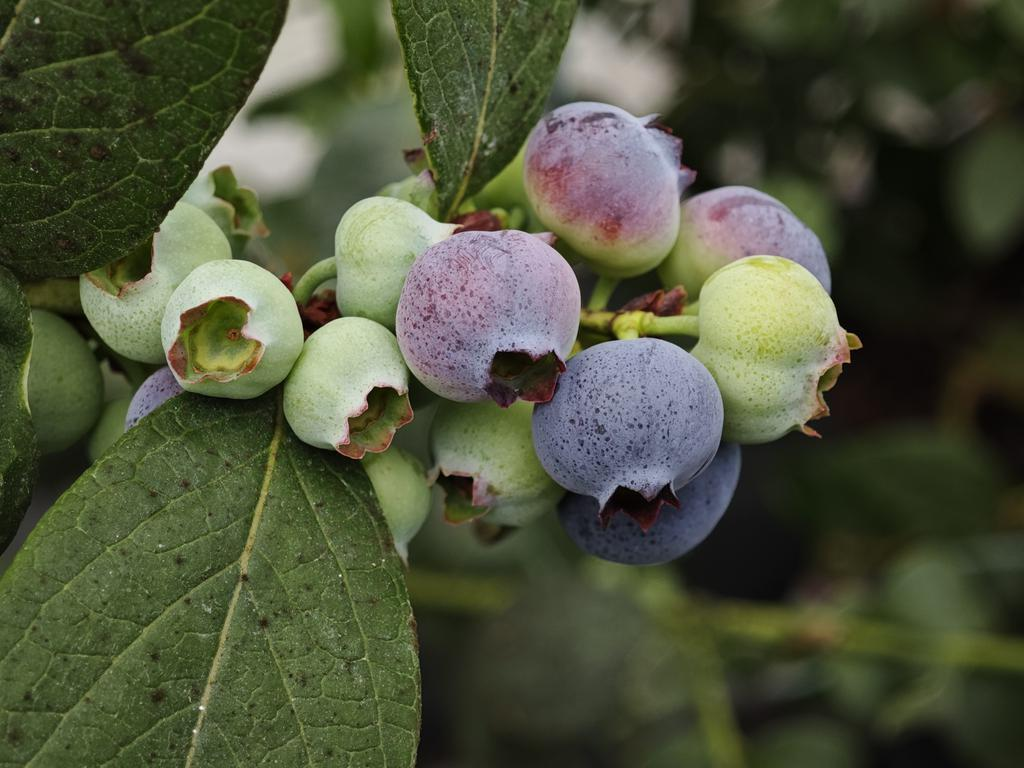RipeBlueBerry: (533, 342, 721, 498)
Semi-RipeBlueBerry: (399, 232, 583, 397), (526, 103, 679, 273)
UnripeBlueBerry: (703, 257, 852, 444), (161, 257, 298, 401)
